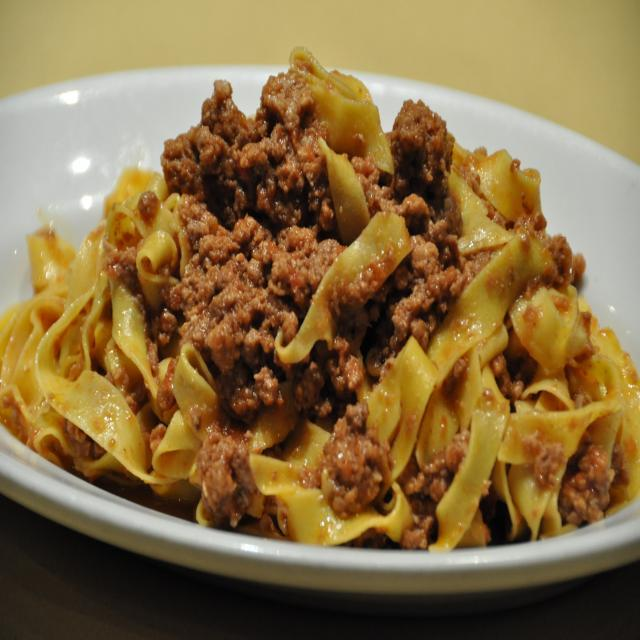Pasta al ragu: (42, 49, 631, 543)
